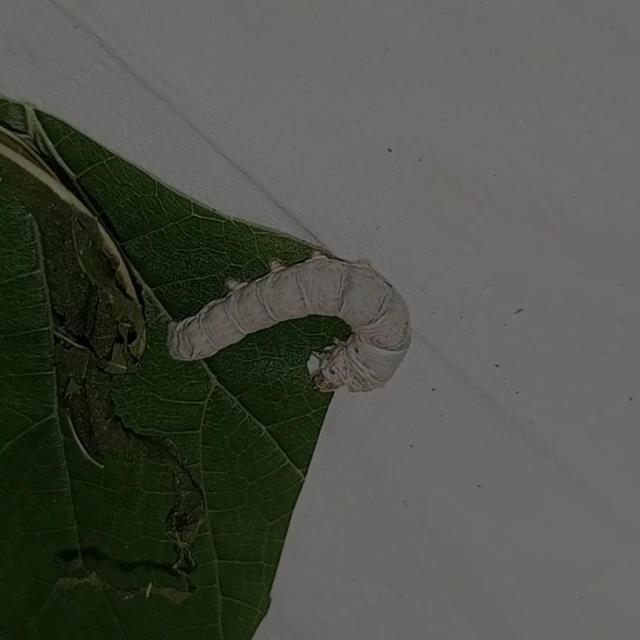Healthy: (158, 242, 416, 398)
